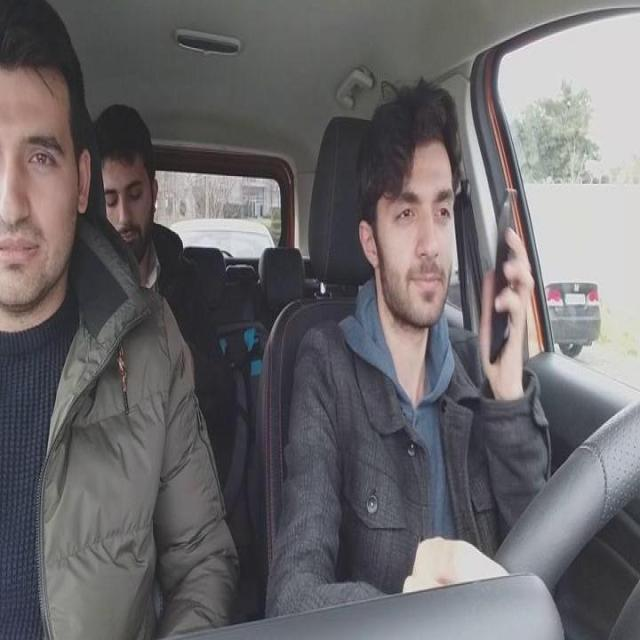phone: (488, 188, 520, 364)
